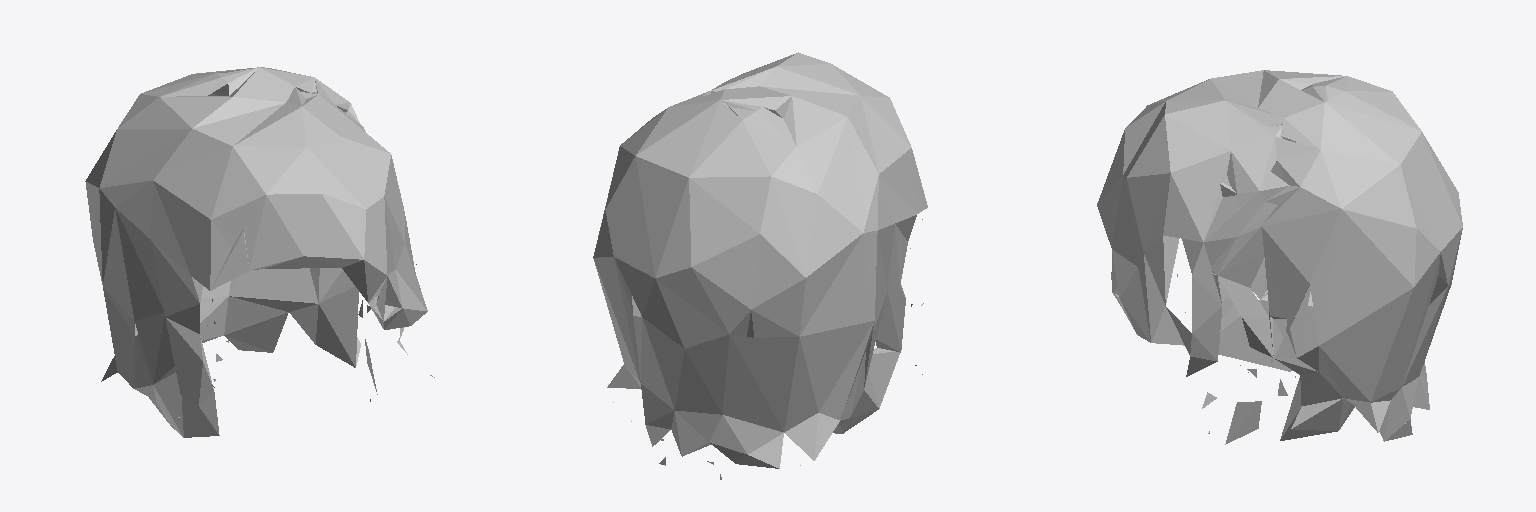
File: hair female 4.obj
3 views of the same model, side by side, from view 1: azimuth 30°, elevation 25°; view 2: azimuth 150°, elevation 25°; view 3: azimuth 270°, elevation 25° (orthographic).
Visible parts, largest first — view 1: Object.001_Mesh; view 2: Object.001_Mesh; view 3: Object.001_Mesh.
Part boxes in pixels (left/top/right/bottom): Object.001_Mesh: left=85, top=67, right=434, bottom=437; Object.001_Mesh: left=593, top=52, right=927, bottom=479; Object.001_Mesh: left=1097, top=70, right=1462, bottom=444.
Size of the model in its own units: 0.3807 by 0.4648 by 0.4642.